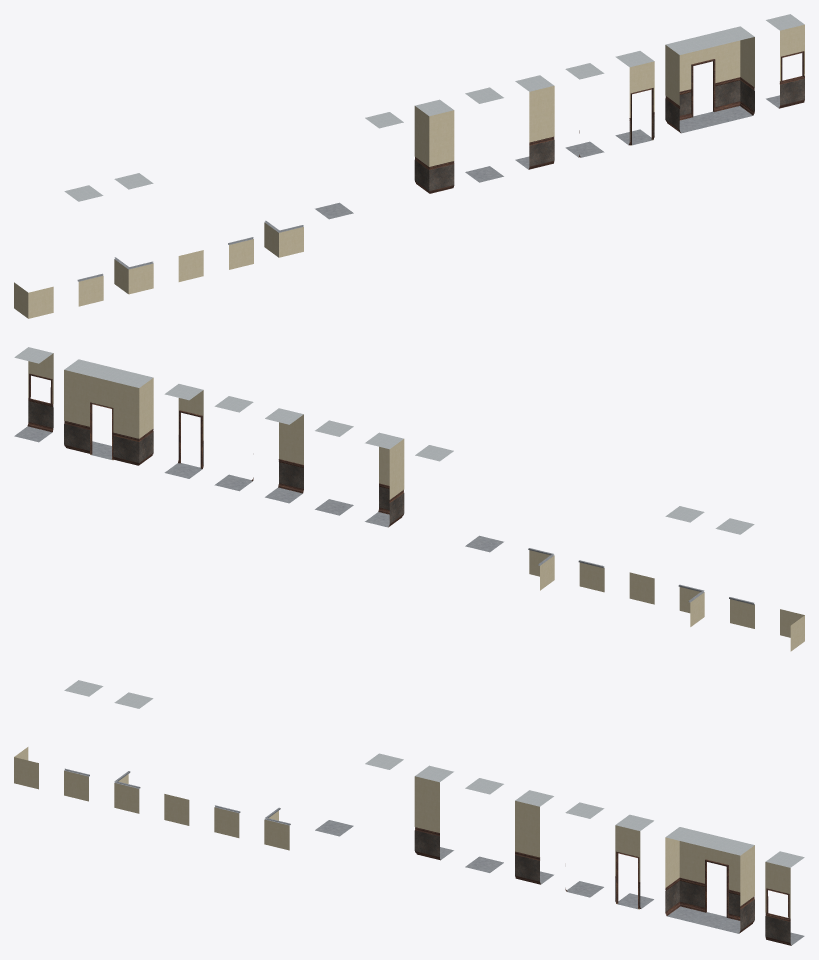
Rendered from sunstationtiles.glb.
The picture shows the model from 3 angles, top to bottom: view 1: azimuth 30°, elevation 25°; view 2: azimuth 150°, elevation 25°; view 3: azimuth 330°, elevation 25°; orthographic projection.
Parts seen in each view (by area): view 1: doorwayop-col, cornerin-col, wall-col, window-col, doorway-col, holecornertop-col, holecorner-col, holeedgetop-col, holewallcor-col, cornerout-col, floor-col, holeedge-col (+1 smaller); view 2: doorwayop-col, cornerin-col, wall-col, window-col, doorway-col, holecornertop-col, holeedgetop-col, holecorner-col, holewallcor-col, cornerout-col, floor-col, holewall-col (+1 smaller); view 3: doorwayop-col, cornerin-col, wall-col, window-col, doorway-col, holecornertop-col, holeedgetop-col, holecorner-col, holewallcor-col, cornerout-col, floor-col, holeedge-col (+1 smaller).
Part boxes in pixels (x1,y1,x2,y2): doorwayop-col: (665,26,754,133); cornerin-col: (414,99,454,193); wall-col: (515,75,554,169); window-col: (766,14,804,108); doorway-col: (615,51,654,145); holecornertop-col: (114,173,153,294); holecorner-col: (264,220,303,257); holeedgetop-col: (64,185,103,306); holewallcor-col: (14,282,53,318); cornerout-col: (565,63,604,157); floor-col: (465,87,503,182); holeedge-col: (228,237,253,269); doorwayop-col: (64,359,153,465); cornerin-col: (365,432,404,527); wall-col: (265,408,303,503); window-col: (14,347,53,442); doorway-col: (164,384,203,478); holecornertop-col: (665,506,704,626); holeedgetop-col: (715,518,754,628); holecorner-col: (528,548,554,590); holewallcor-col: (780,609,804,651); cornerout-col: (214,396,253,491); floor-col: (315,420,353,515); holewall-col: (629,572,654,604); doorwayop-col: (665,827,754,933); cornerin-col: (414,765,453,860); wall-col: (515,790,553,884); window-col: (765,851,804,945); doorway-col: (615,814,653,909); holecornertop-col: (114,692,153,813); holeedgetop-col: (64,680,103,801); holecorner-col: (264,807,290,850); holewallcor-col: (14,747,38,789); cornerout-col: (565,802,604,897); floor-col: (465,778,503,872); holeedge-col: (214,805,240,837).
Size of the model in its own units: 31 by 4 by 1.02.
5 materials, 5 textured.
